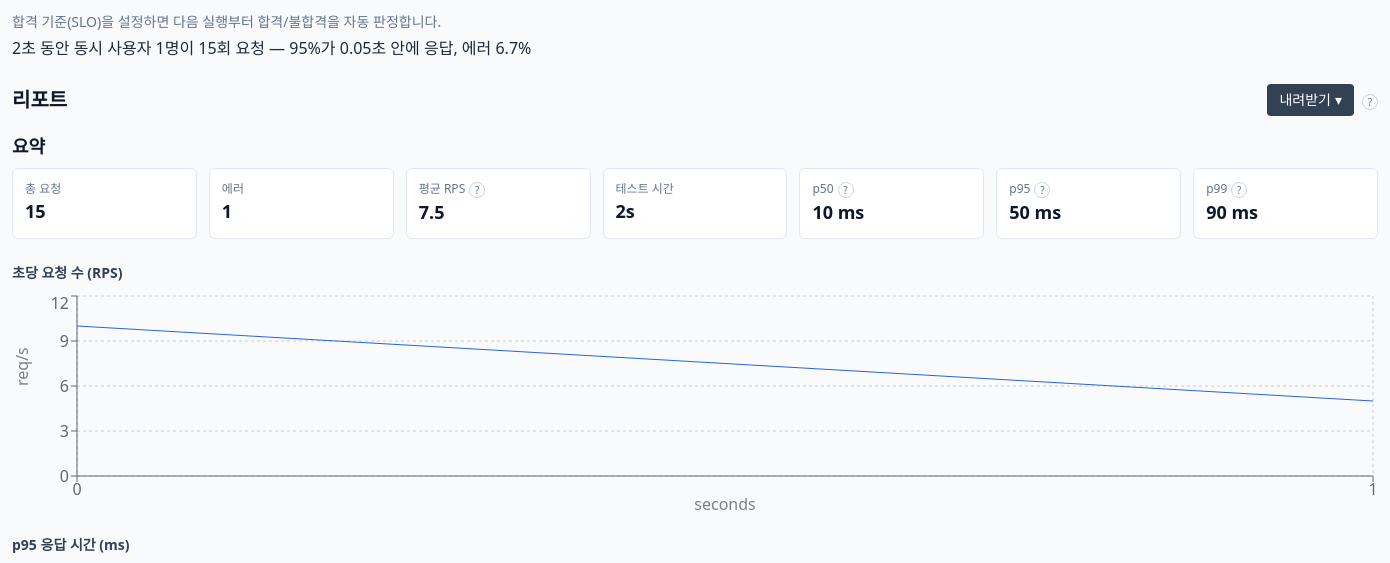
it: ReportView › download menu › explains each format in a help tip
The image size is (1390, 563).
Step 1. Click the button named "파일 형식 설명" → (1370, 102), box x1=1362 y1=94 x2=1378 y2=110
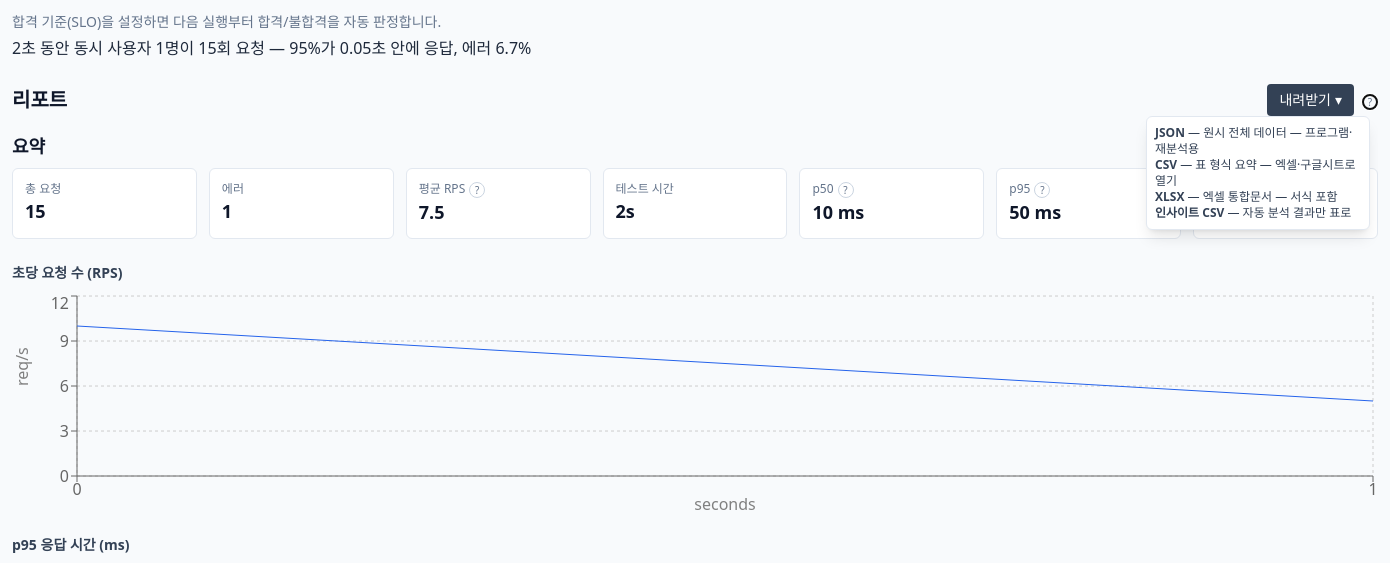
Expected: the element that starts with "JSON" shows "원시 전체 데이터 — 프로그램·재분석용", x1=1155 y1=124 x2=1352 y2=157
Expected: the element that starts with "JSON" shows "엑셀 통합문서 — 서식 포함", x1=1203 y1=188 x2=1338 y2=205
Expected: the element that starts with "JSON" shows "자동 분석 결과만 표로", x1=1243 y1=204 x2=1351 y2=221
